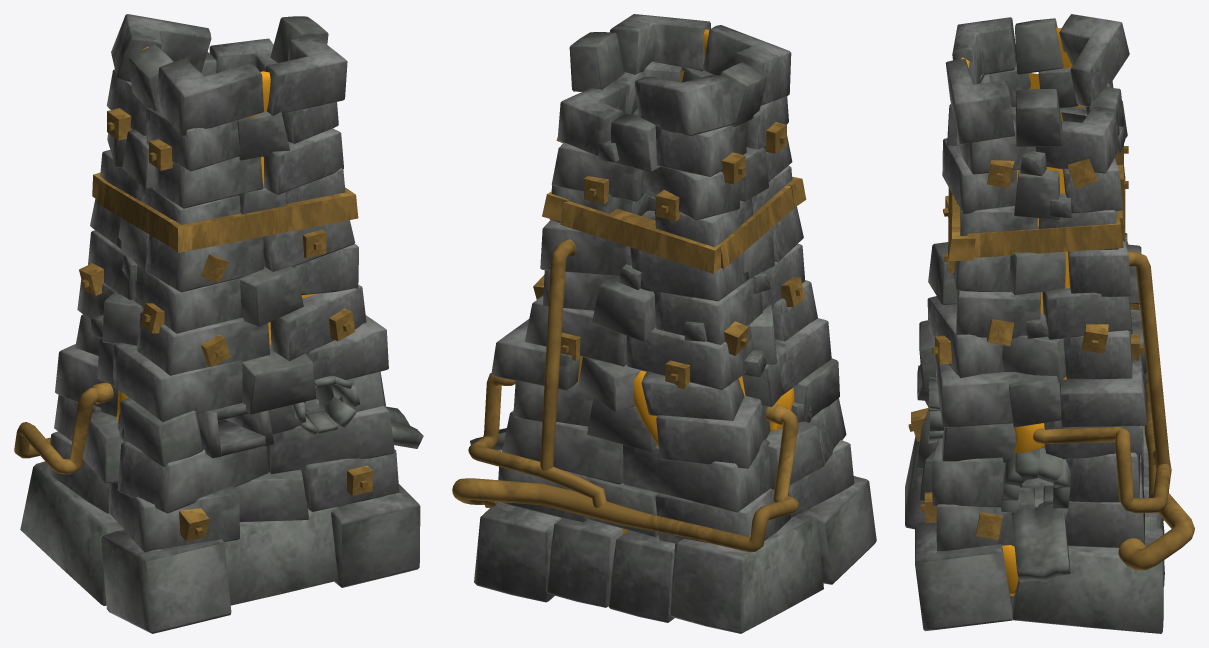
Rendered from BFNew.fbx.
3 renders of one model, left to right at view 1: azimuth 30°, elevation 25°; view 2: azimuth 150°, elevation 25°; view 3: azimuth 270°, elevation 25°, orthographic. The views are drawn at different scales.
Parts seen in each view (by area): view 1: BF; view 2: BF, GoldAmbers; view 3: BF, GoldAmbers, GoldPlanes.
Boxes of the visible parts, <box> form: BF: <box>14,14,423,633</box>; BF: <box>452,14,876,633</box>; GoldAmbers: <box>633,29,794,446</box>; BF: <box>905,14,1194,633</box>; GoldAmbers: <box>961,28,1072,595</box>; GoldPlanes: <box>1013,73,1085,596</box>.
Size of the model in its own units: 374 by 561 by 282.
